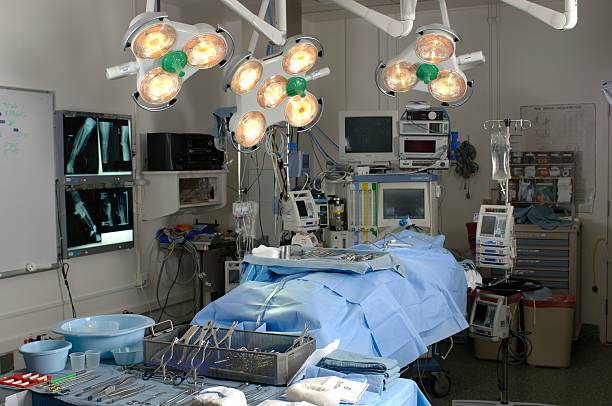bedside_monitor: (56, 180, 138, 259), (55, 109, 133, 179), (336, 110, 398, 163), (379, 185, 432, 228), (401, 125, 449, 164)
handle: (511, 266, 538, 276), (515, 256, 542, 266), (517, 247, 544, 257)
infusion_pump: (471, 288, 520, 361), (280, 189, 318, 229)
iv_pole: (487, 119, 533, 203)
medical_drawer: (490, 215, 585, 340)
operating_bed: (190, 231, 468, 364)
surgical_instrument: (17, 353, 251, 406), (148, 321, 311, 385), (276, 244, 385, 272)
surgical_light: (108, 13, 234, 112), (227, 35, 323, 153), (376, 27, 485, 107)
syringe_pump: (470, 204, 516, 247), (470, 257, 515, 267), (471, 247, 516, 257)
waste_bin: (527, 297, 576, 367)
